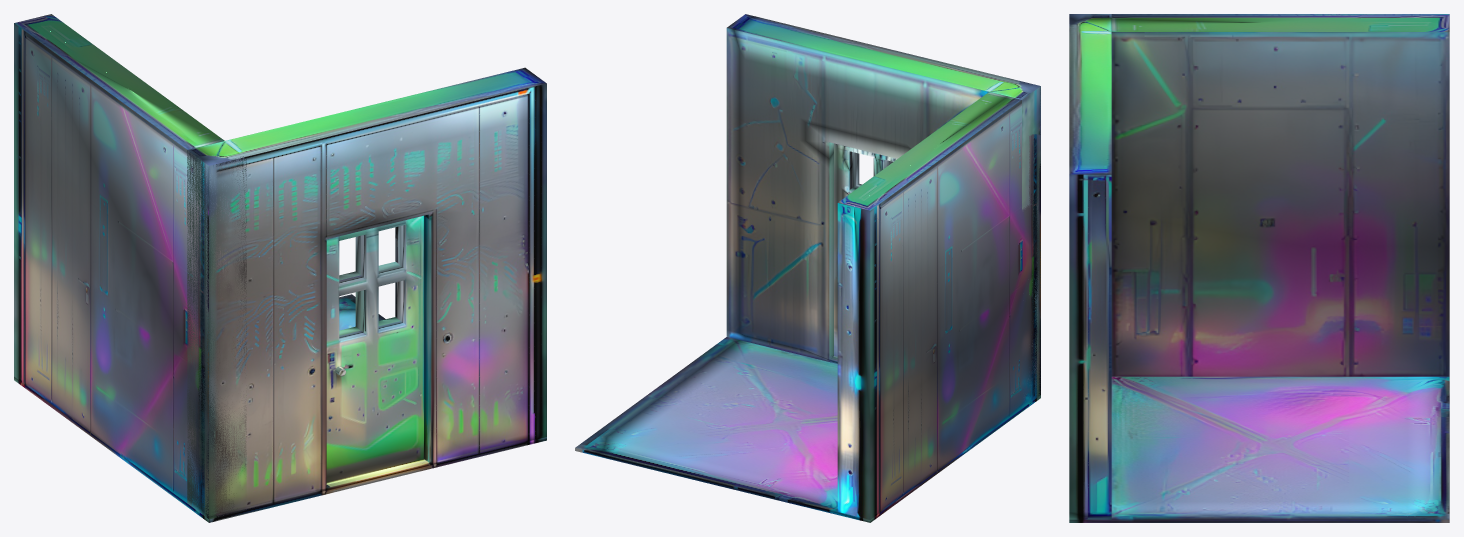
File: residentialBasicFloorWallDoorB.glb
3 views of the same model, side by side, from view 1: azimuth 30°, elevation 25°; view 2: azimuth 150°, elevation 25°; view 3: azimuth 270°, elevation 25° (orthographic). The views are drawn at different scales.
Parts seen in each view (by area): view 1: residentialBasicFloorWallDoorB; view 2: residentialBasicFloorWallDoorB; view 3: residentialBasicFloorWallDoorB.
Part boxes in pixels (x1=…): residentialBasicFloorWallDoorB: x1=14, y1=14, x2=546, y2=522; residentialBasicFloorWallDoorB: x1=575, y1=14, x2=1040, y2=522; residentialBasicFloorWallDoorB: x1=1069, y1=14, x2=1449, y2=522.
Bounding box in the file's own units: 1 × 1.01 × 1.
1 material, 1 textured.
